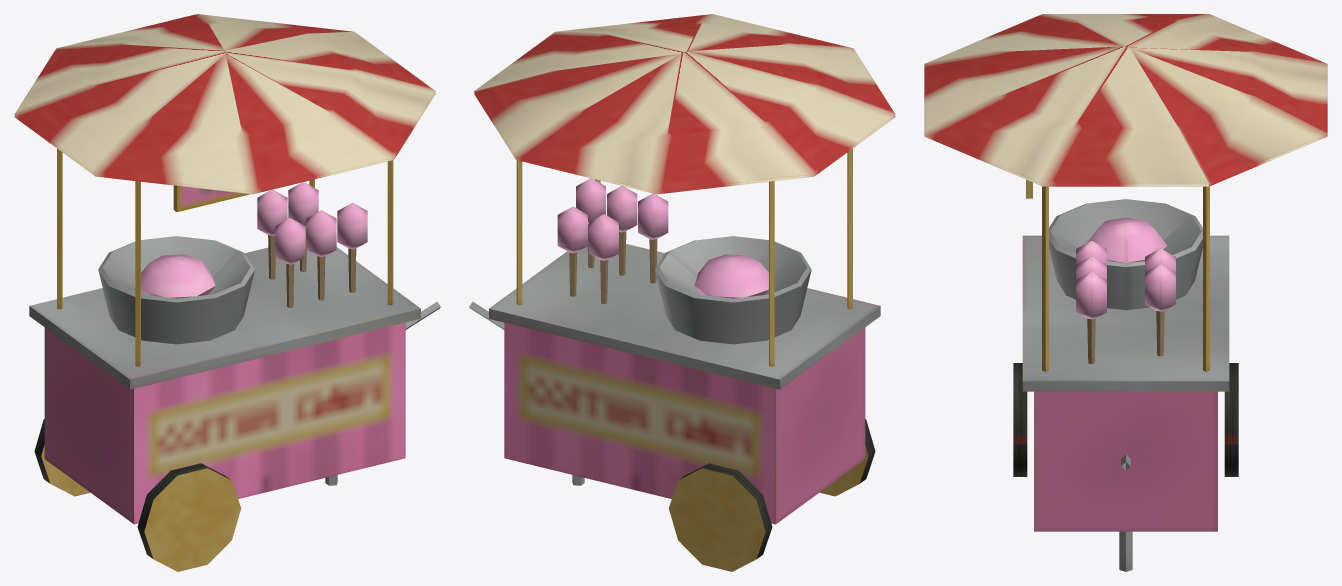
Rendered from cotton_candy_cart.obj.
3 renders of one model, left to right at view 1: azimuth 30°, elevation 25°; view 2: azimuth 150°, elevation 25°; view 3: azimuth 270°, elevation 25°, orthographic. The views are drawn at different scales.
Parts seen in each view (by area): view 1: cotton_candy_cart, cotton_candy_cart_canopy; view 2: cotton_candy_cart, cotton_candy_cart_canopy; view 3: cotton_candy_cart, cotton_candy_cart_canopy.
Boxes of the visible parts, x1,y1,x2,y2 form: cotton_candy_cart: (29,182,440,571); cotton_candy_cart_canopy: (14,14,435,366); cotton_candy_cart: (469,178,880,571); cotton_candy_cart_canopy: (474,14,895,366); cotton_candy_cart: (1013,199,1238,571); cotton_candy_cart_canopy: (924,14,1327,371).
Bounding box in the file's own units: 1.98 × 2.25 × 1.76.
Materials: 1 (1 with a texture image).
